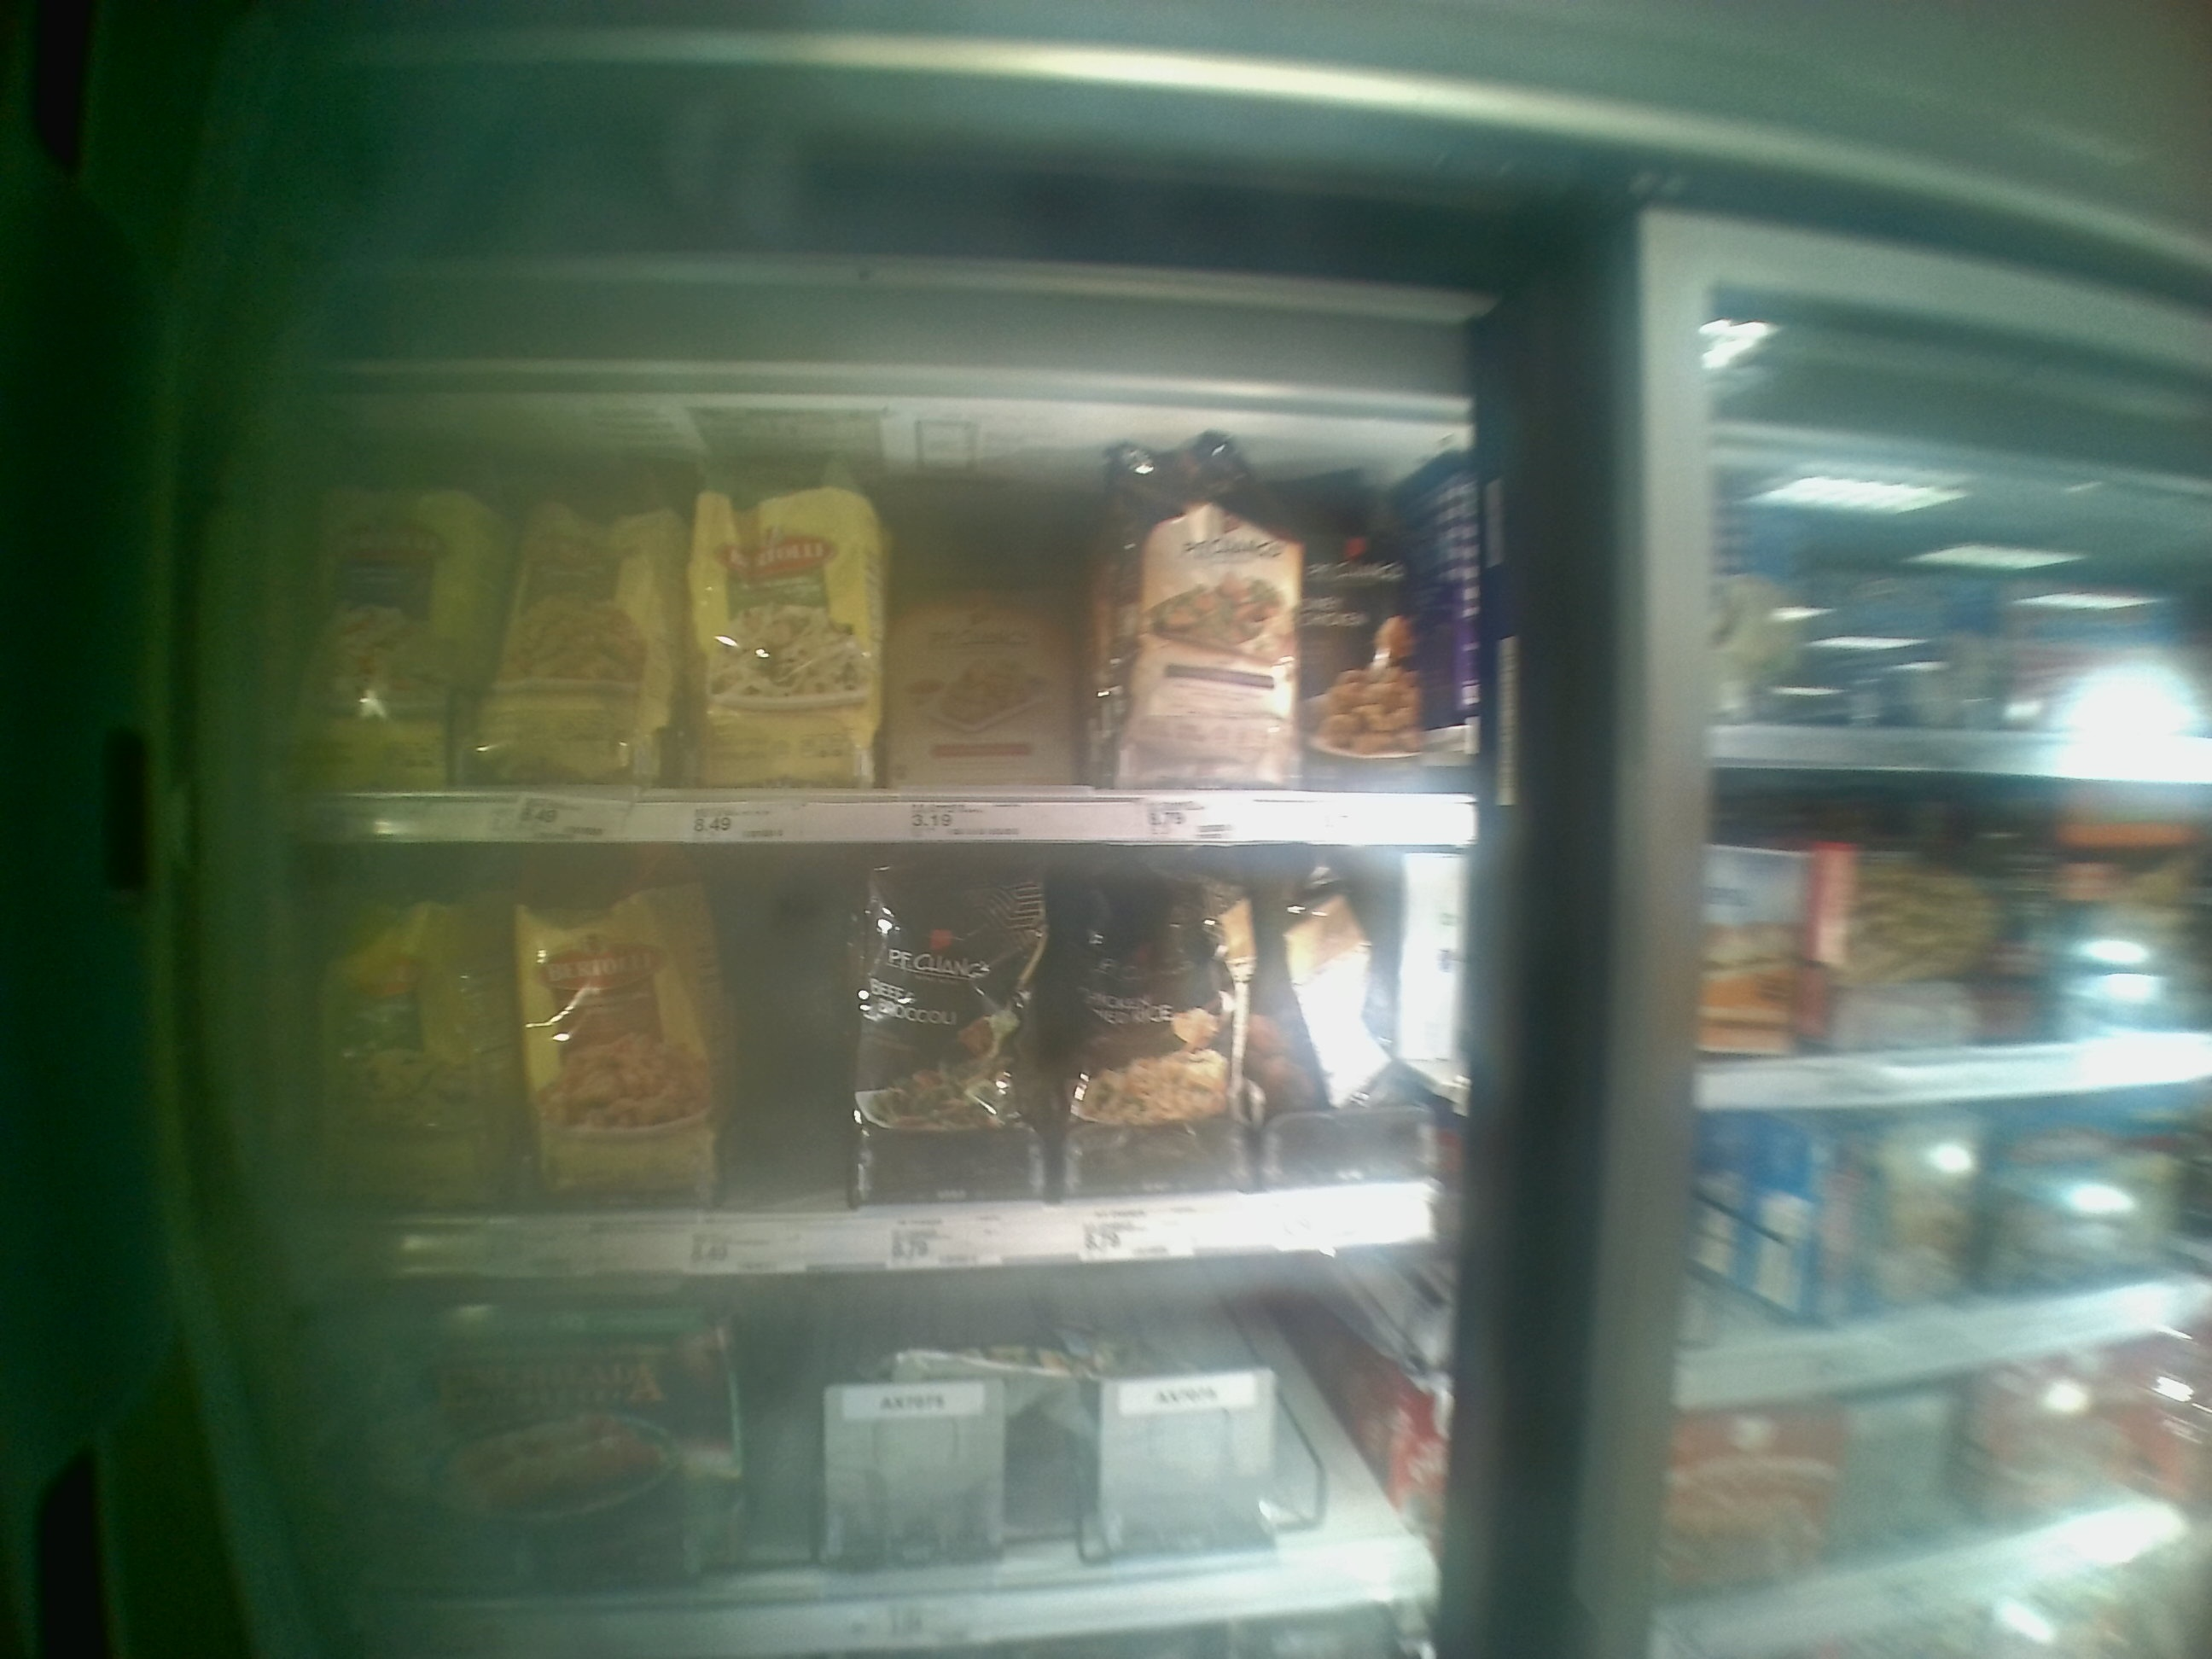shelf: (279, 270, 1460, 838), (279, 836, 1468, 1241)
